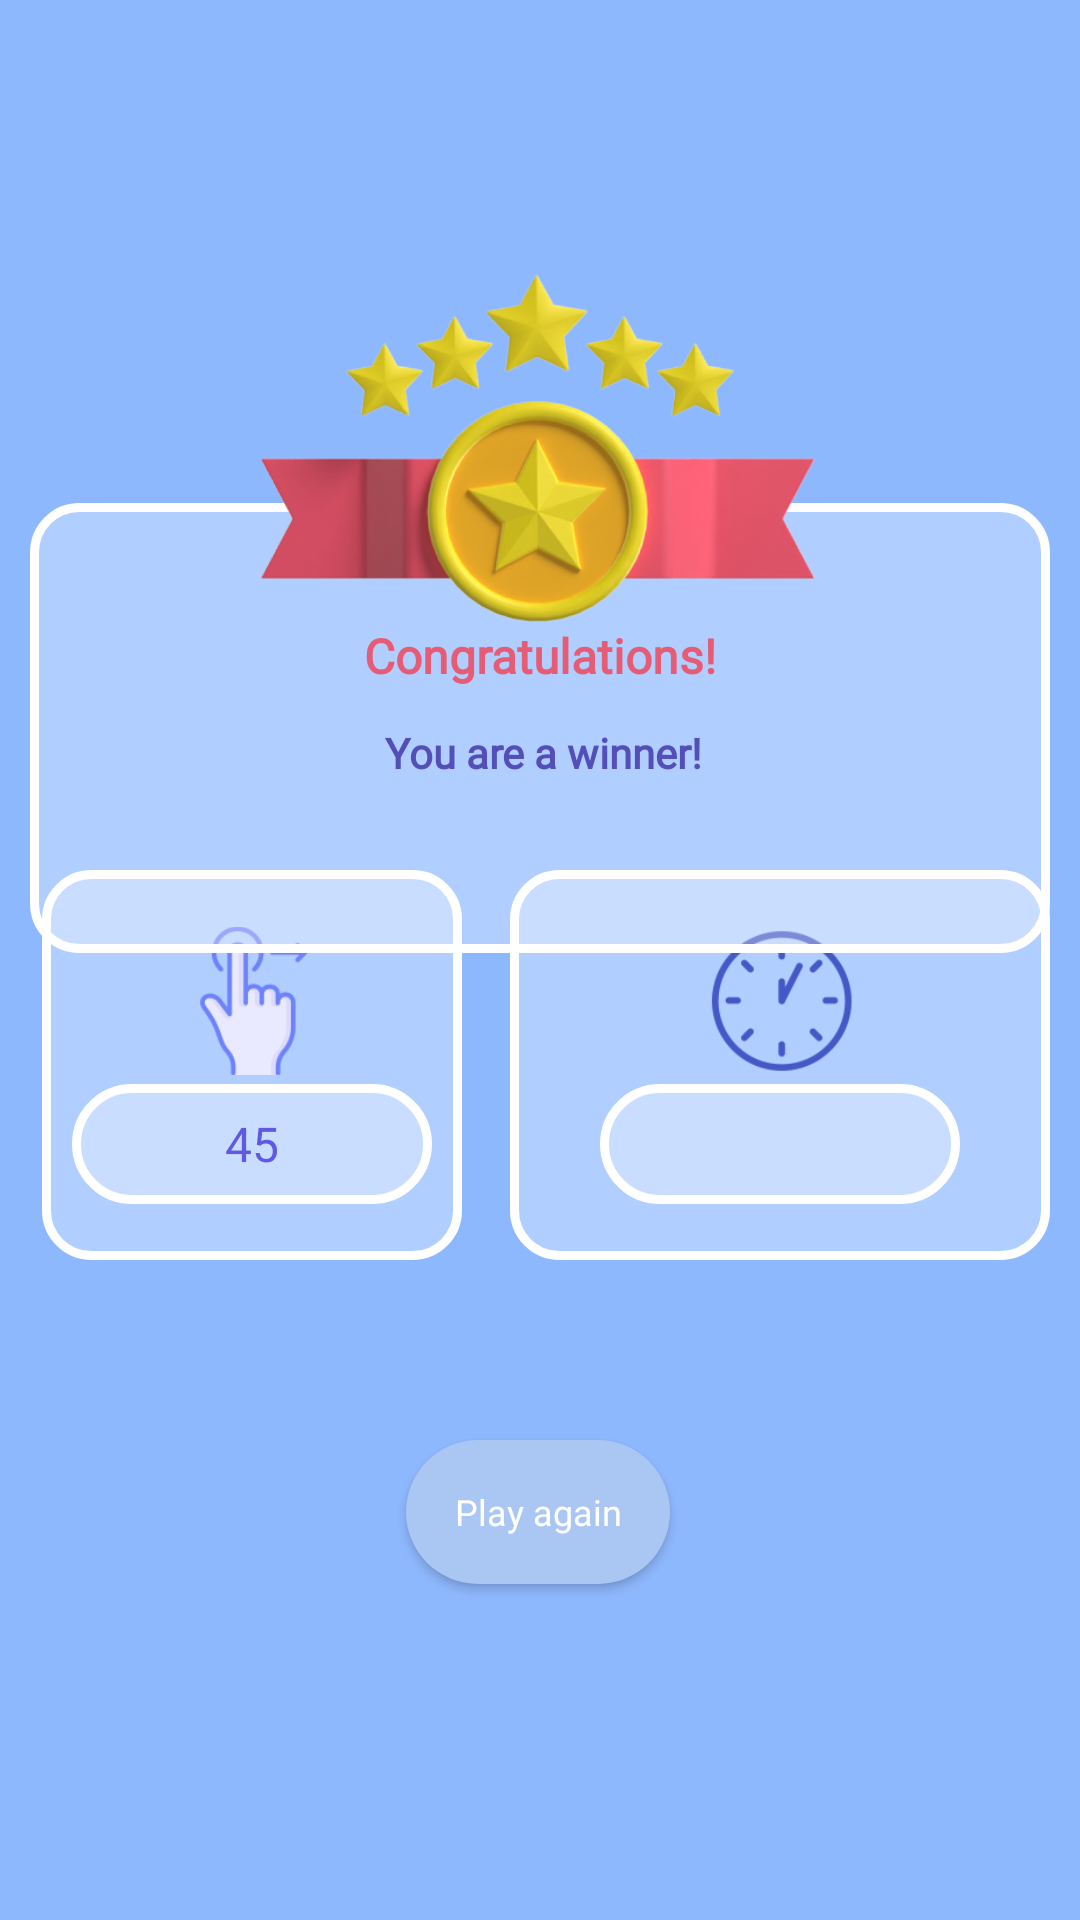

Where icons sit on this 1080px x 1920px app screen, as (x1, y1, x2, y2):
soat: (705, 931, 855, 1071)
ukaatel: (177, 927, 327, 1075)
